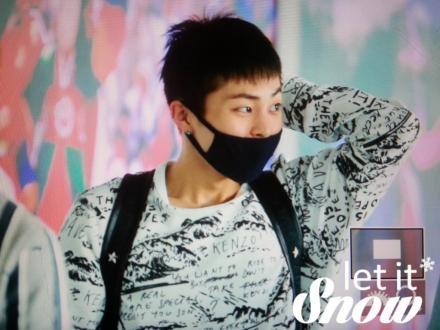face_mask: (204, 66, 286, 181)
